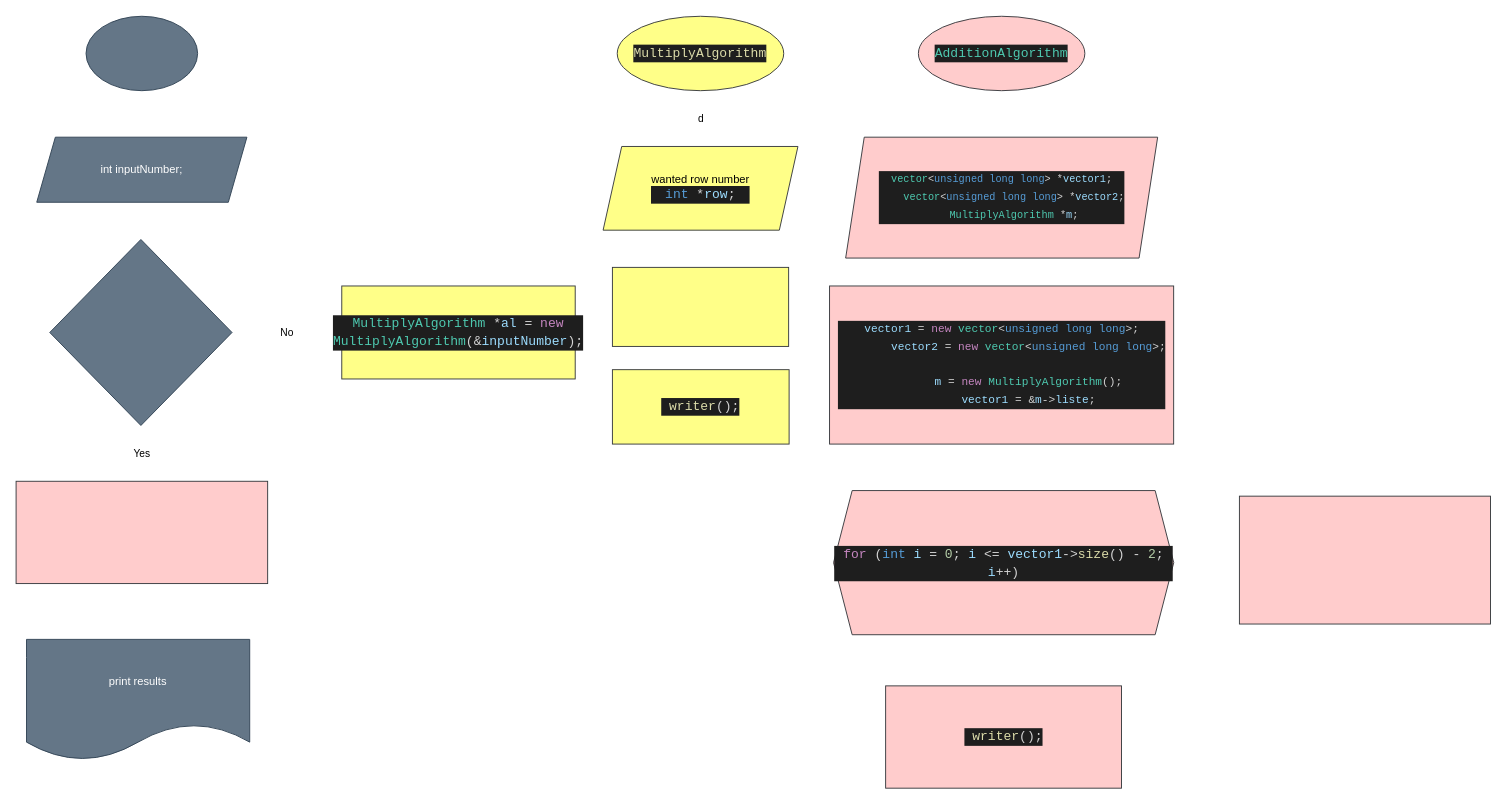
The diagram is 1508 pixels wide and 804 high, and some of its shapes have lost their labels. Each missing label, with the centre of its shape:
AdditionAlgorithm * al = new AdditionAlgorithm (& inputNumber );: the point at 141,532
Combination prosses void calculate ( int * n );: the point at 700,306
inputNumber>20: the point at 140,332
start: the point at 141,53
vectorCreate (); vectorSwap ();: the point at 1364,559
